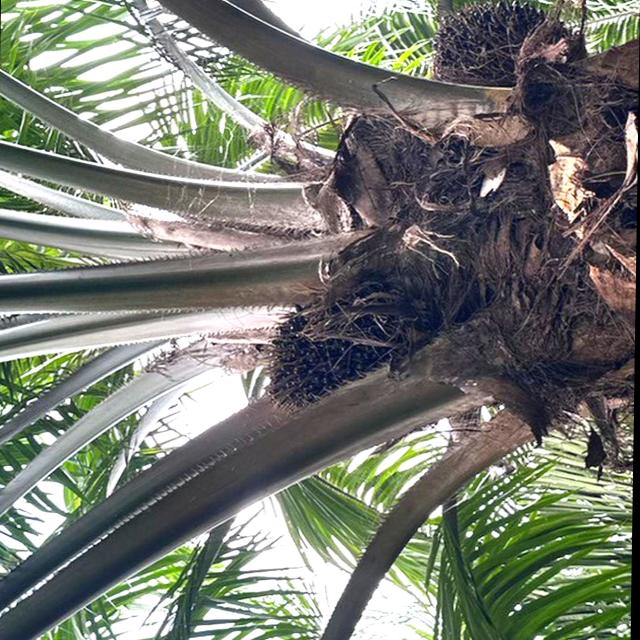unripe: (251, 273, 421, 427)
